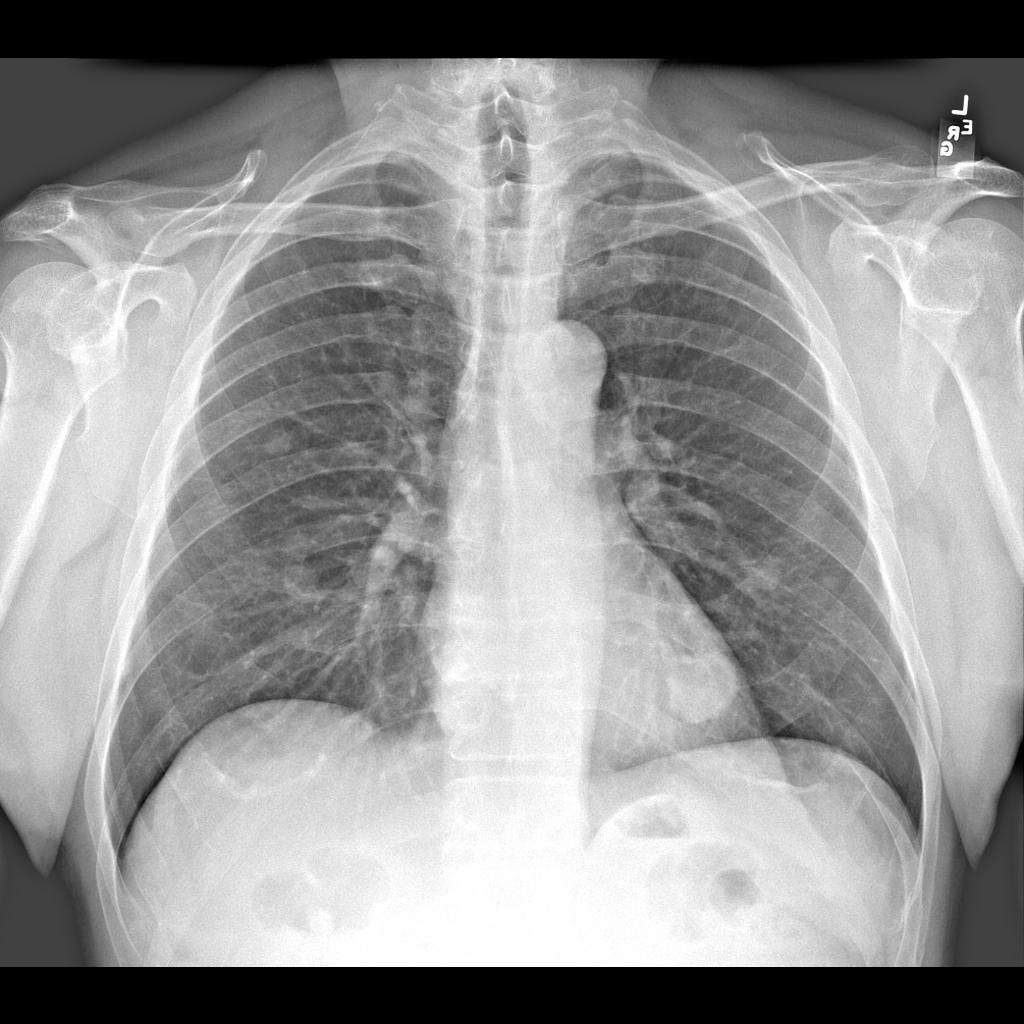Nodule: (657, 643, 741, 734), (280, 555, 327, 607), (261, 426, 299, 461)
